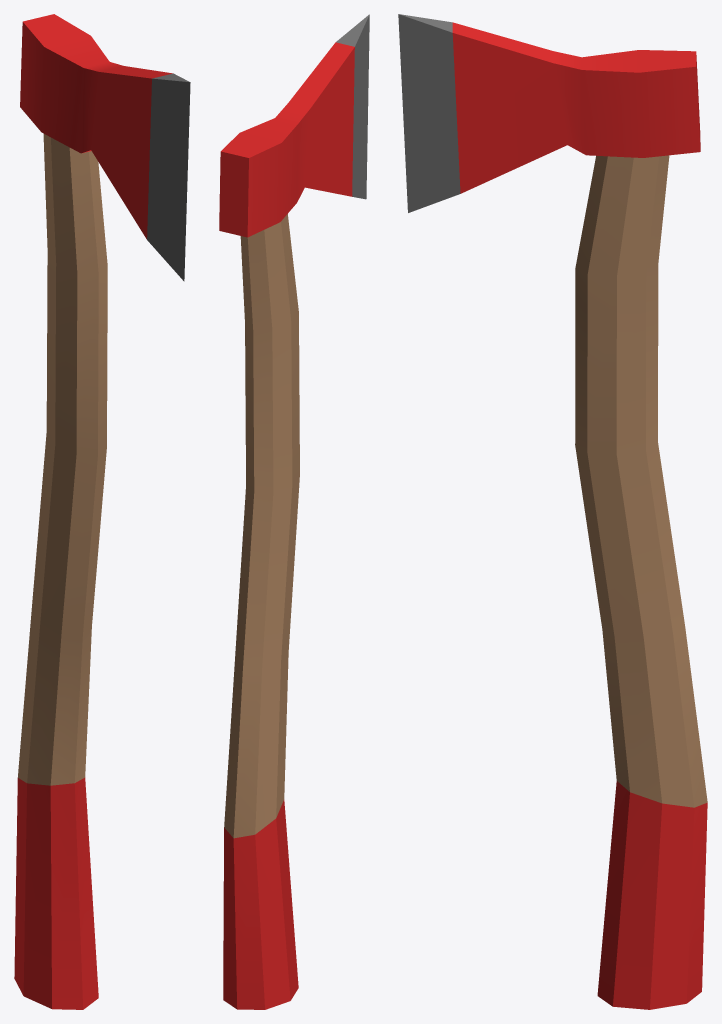
File: axe.fbx
The picture shows the model from 3 angles, left to right: view 1: azimuth 30°, elevation 25°; view 2: azimuth 150°, elevation 25°; view 3: azimuth 270°, elevation 25°; orthographic projection. The views are drawn at different scales.
Parts seen in each view (by area): view 1: axe; view 2: axe; view 3: axe.
Part boxes in pixels (<box>): axe: <box>14,14,190,1009</box>; axe: <box>219,14,369,1009</box>; axe: <box>398,14,707,1009</box>.
Bounding box in the file's own units: 0.000885 × 0.0128 × 0.00364.
